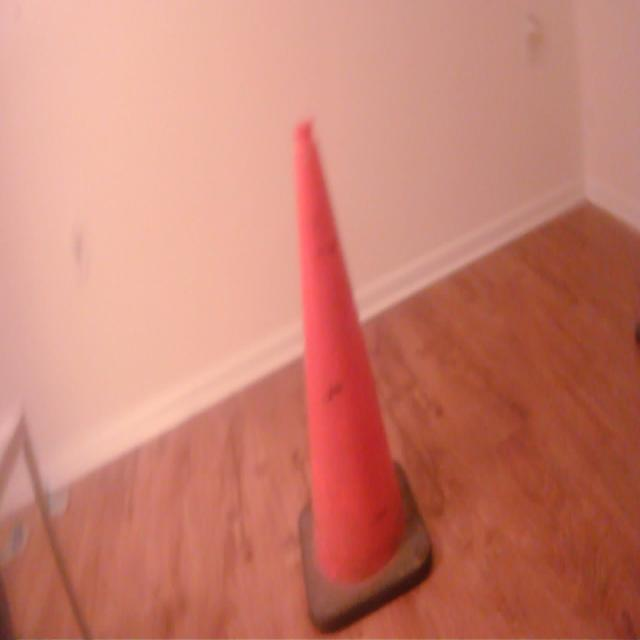traffic cone: (292, 109, 438, 640)
